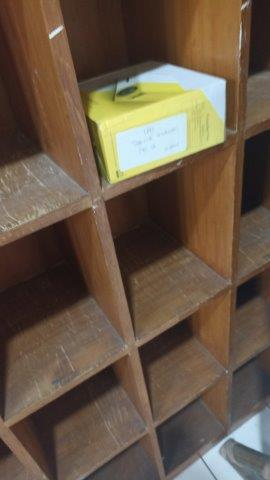kardus: (77, 61, 225, 184)
